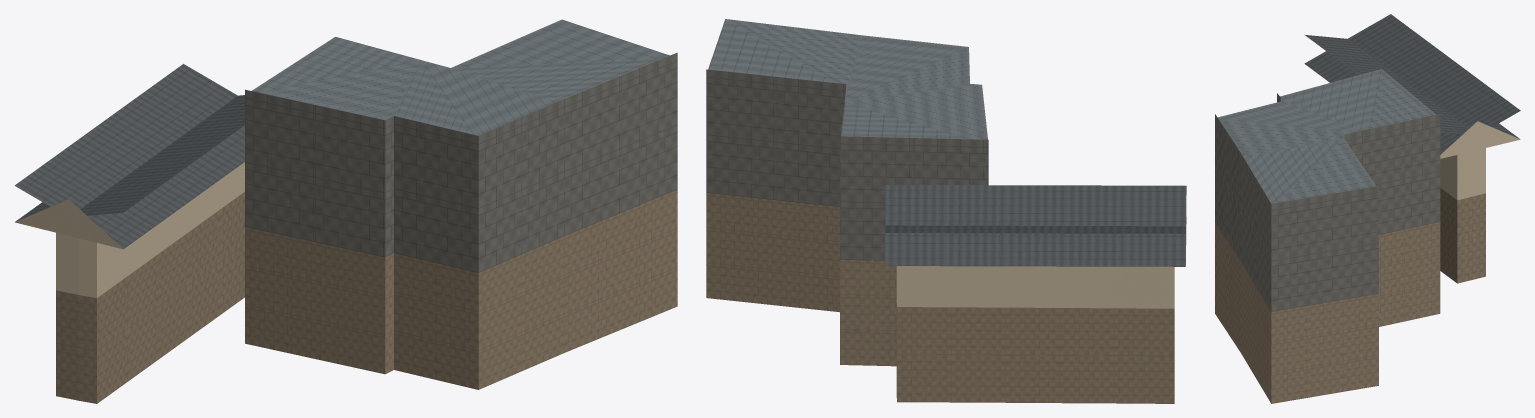
The model's file is bld_c41_-10_495.gltf.
The picture shows the model from 3 angles, left to right: view 1: azimuth 30°, elevation 25°; view 2: azimuth 150°, elevation 25°; view 3: azimuth 270°, elevation 25°; orthographic projection. The views are drawn at different scales.
Visible parts, largest first — view 1: bld_c41_-10_495; view 2: bld_c41_-10_495; view 3: bld_c41_-10_495.
Part boxes in pixels (x1,y1,x2,y2): bld_c41_-10_495: [14, 19, 677, 403]; bld_c41_-10_495: [706, 19, 1186, 403]; bld_c41_-10_495: [1215, 14, 1520, 403].
Bounding box in the file's own units: 26.82 × 11.08 × 15.36.
7 materials, 7 textured.
